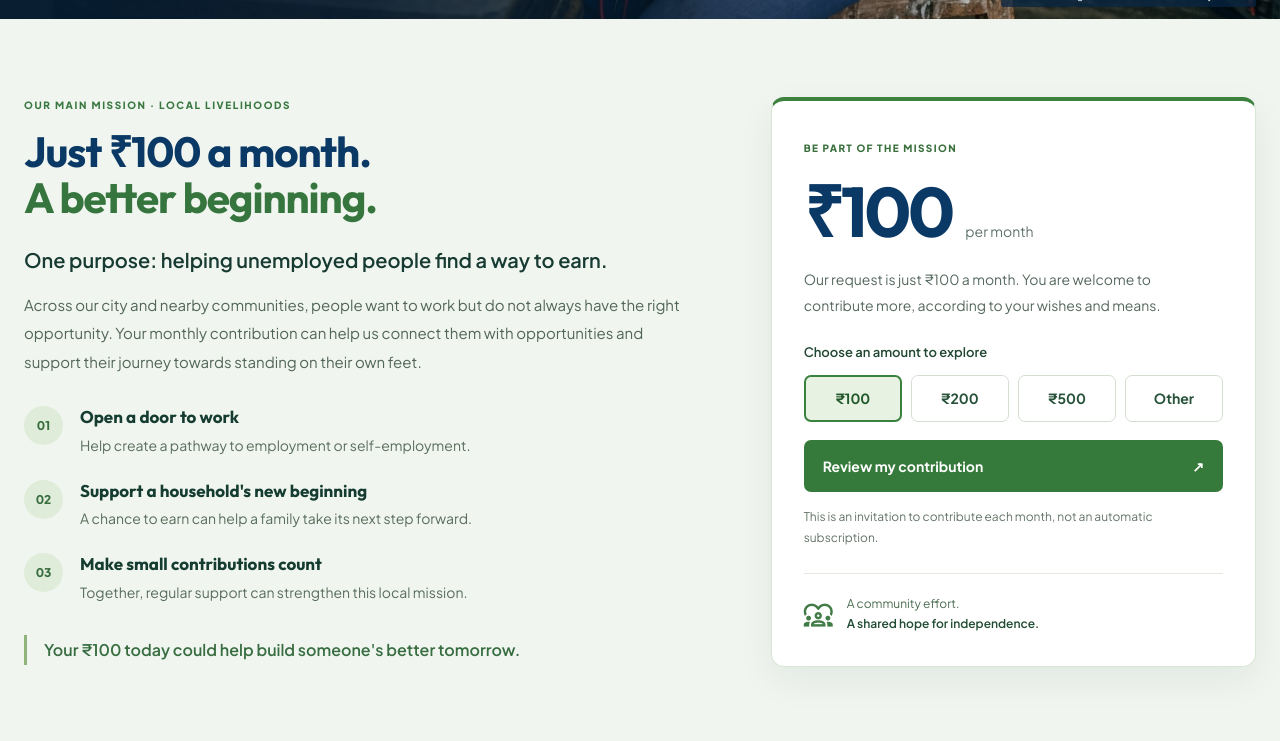
Scenario: Monthly livelihood mission › rejects a nonpositive custom amount and accepts a valid larger amount
The image size is (1280, 741).
(page scrolled)
Click the button "Other" at (1174, 398), box [1125,375,1223,422]
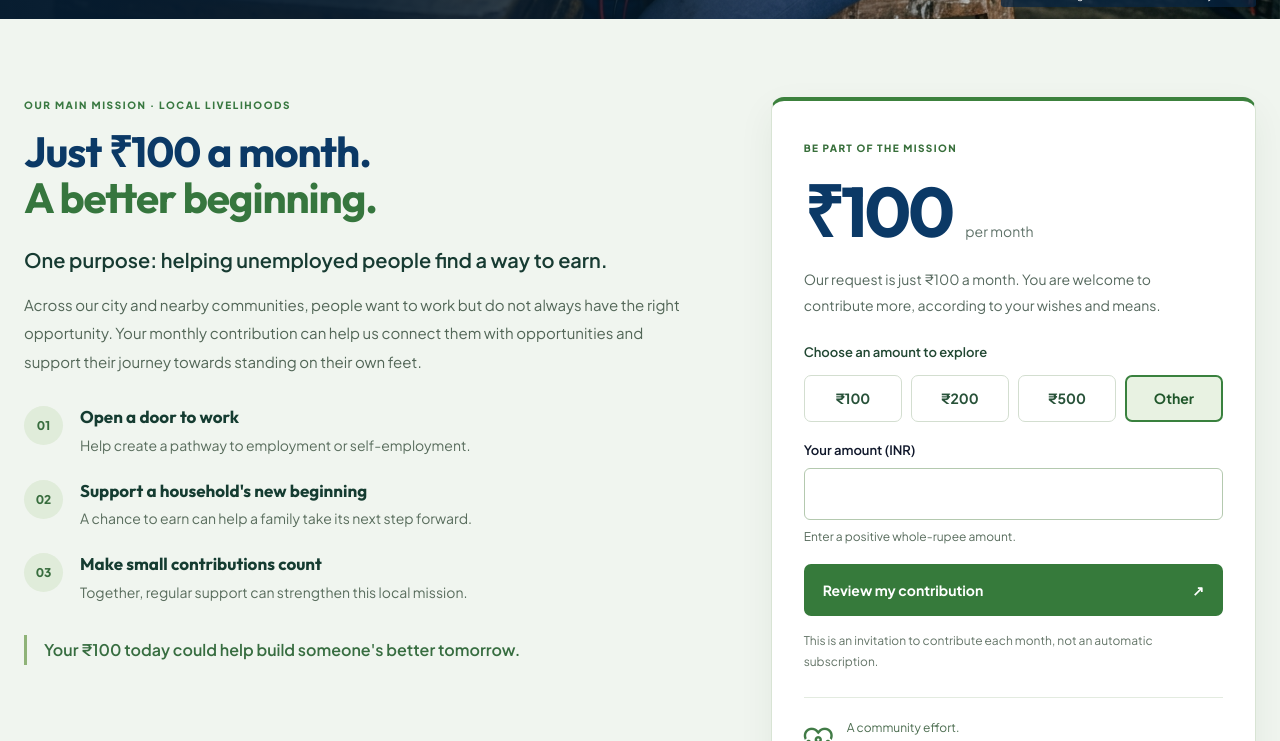
Type "-1" into the number field with id "mission-custom-amount" at (1013, 494), box [804,468,1223,520]
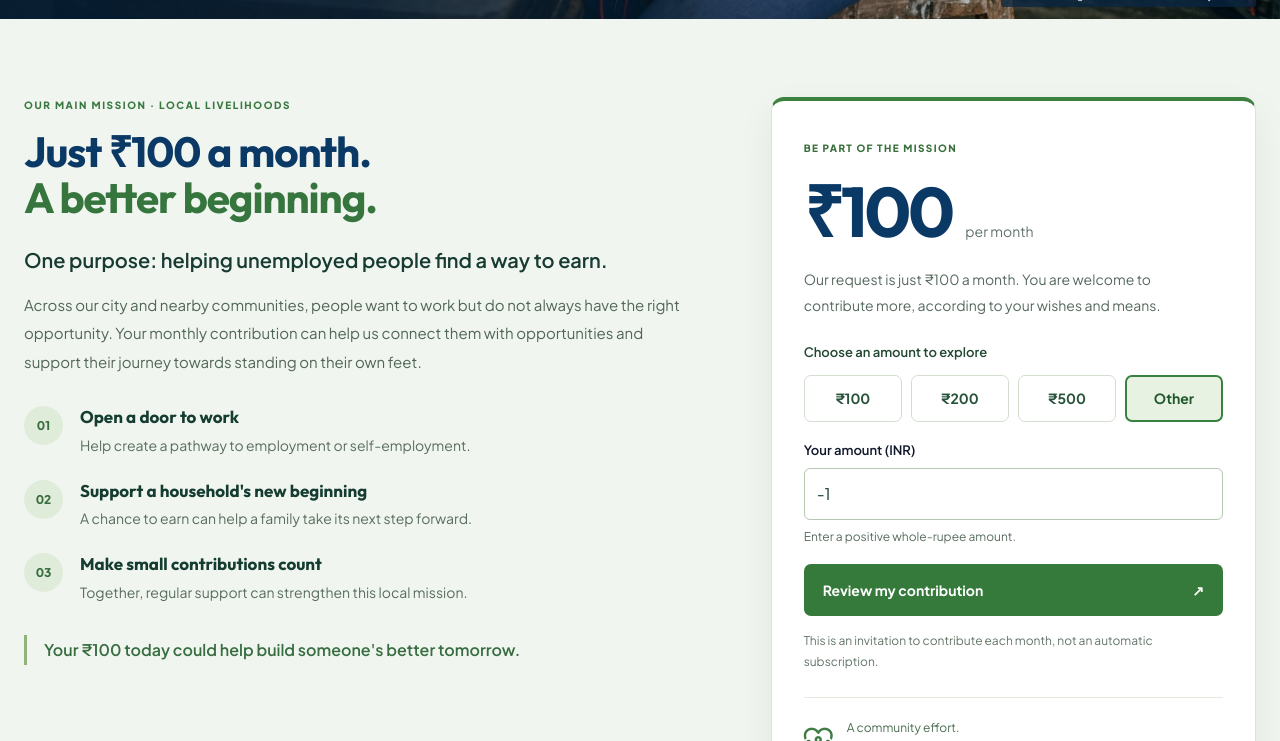
Click the button with class "mission-contribute" at (903, 590), box [804,564,1223,616]
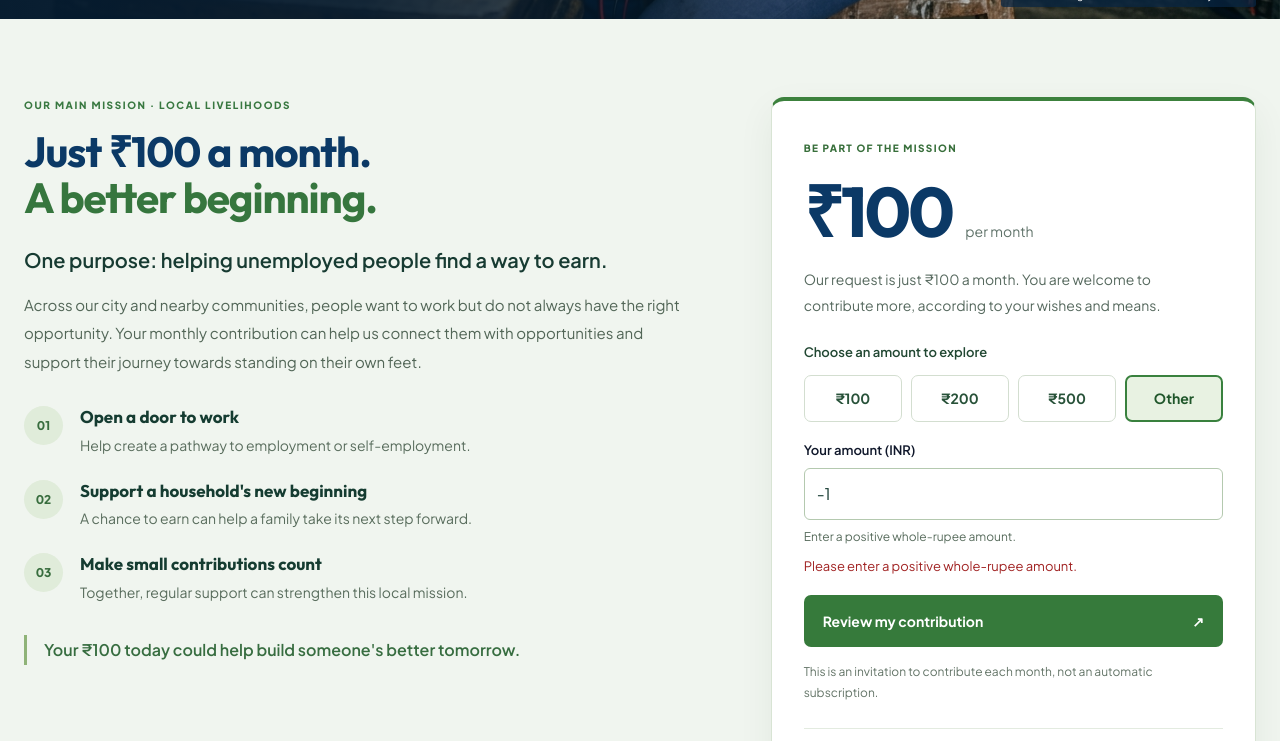
Expected: the message "Please enter a positive whole-rupee amount." is shown, [804,558,1077,574]
Replace the text in the number field with id "mission-custom-amount" with "1234" at (1013, 494), box [804,468,1223,520]
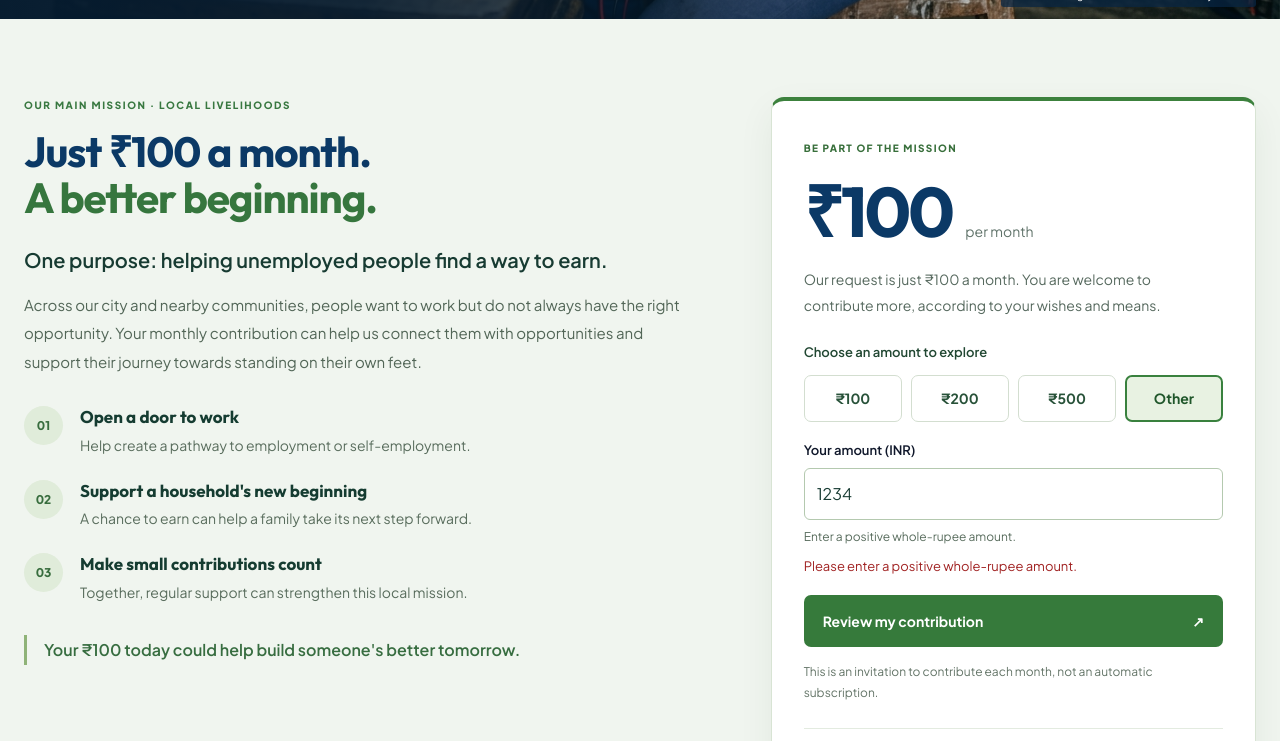
Click the button with class "mission-contribute" at (903, 621), box [804,595,1223,647]
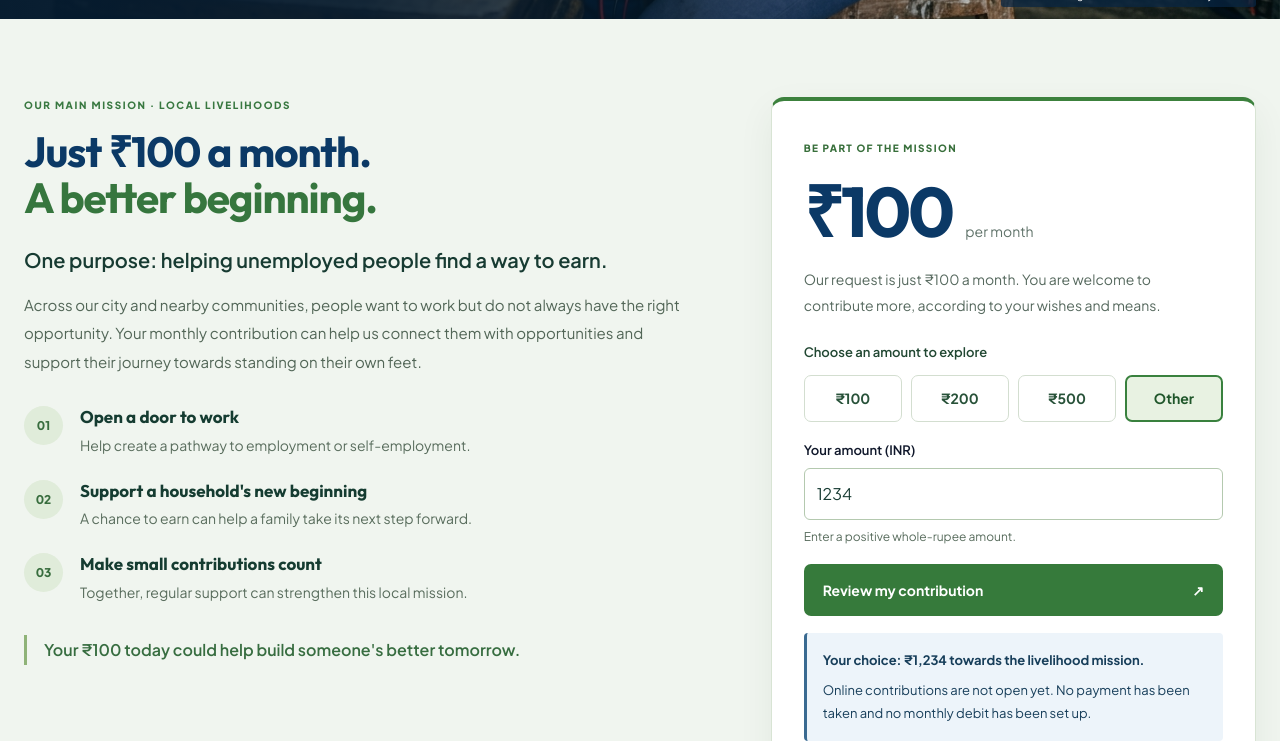
Expected: the message with class "mission-error" is gone
Expected: the message with class "mission-review" shows "₹1,234", [823,652,1144,668]
